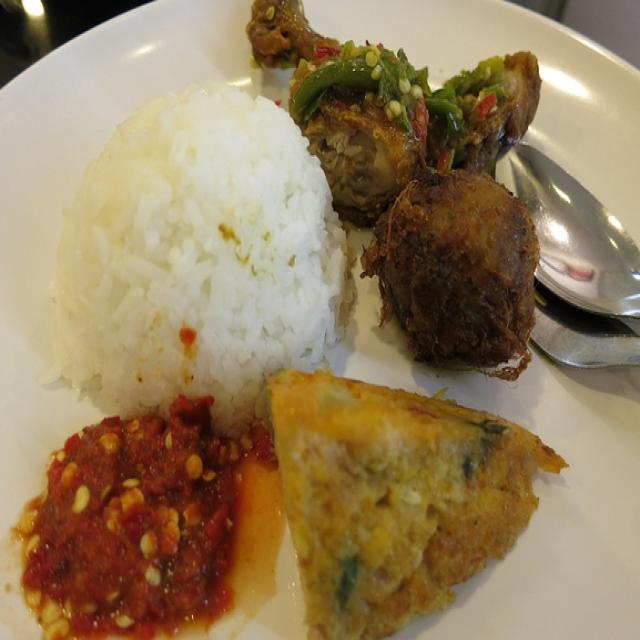米饭主食: (11, 13, 623, 618)
